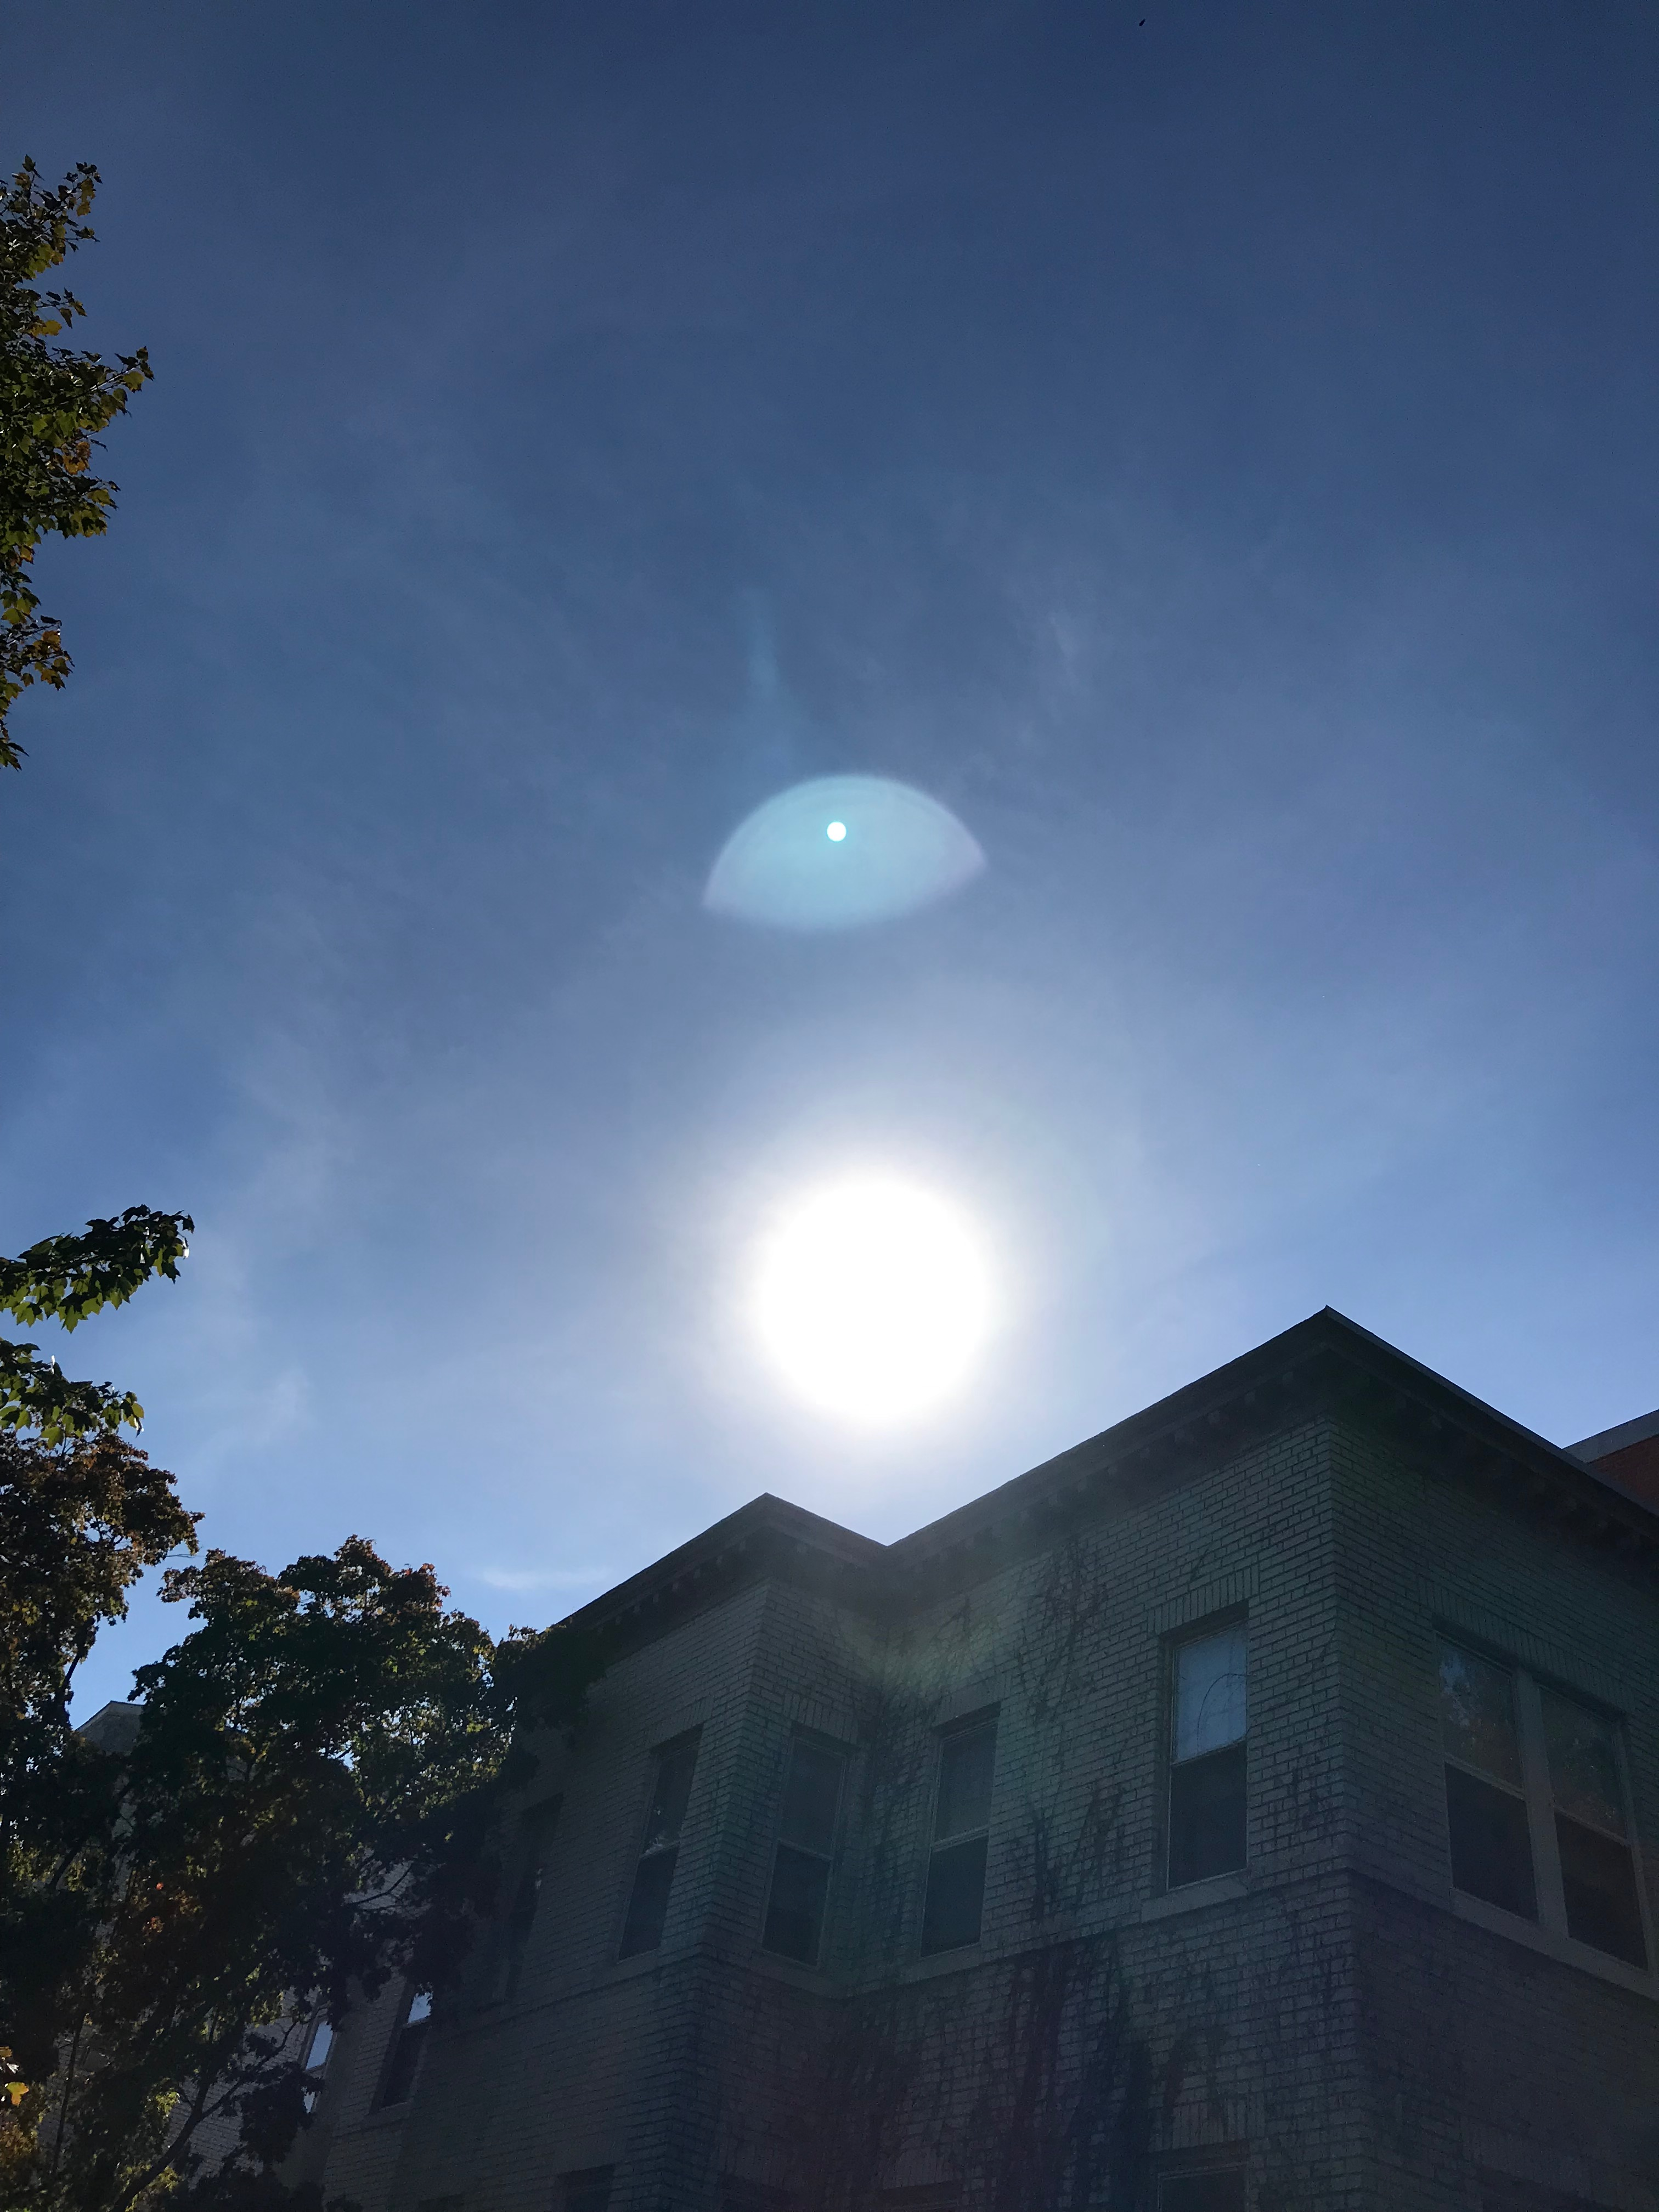flare: (824, 820, 849, 843)
